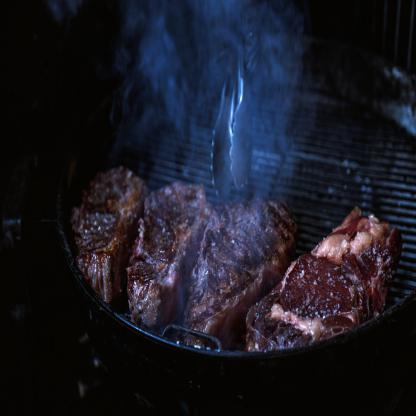Carne: (188, 198, 294, 302), (125, 182, 205, 318), (76, 170, 142, 296)
